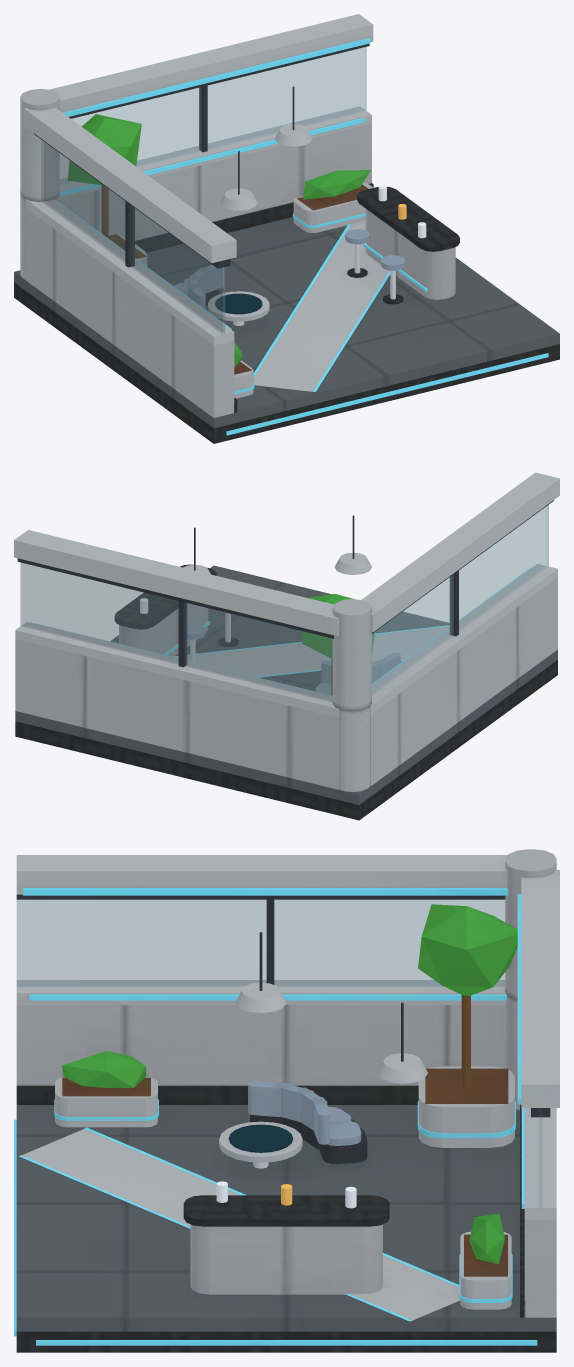
Rendered from enterprise_promenade.glb.
3 renders of one model, top to bottom at view 1: azimuth 30°, elevation 25°; view 2: azimuth 150°, elevation 25°; view 3: azimuth 270°, elevation 25°, orthographic. The views are drawn at different scales.
Parts seen in each view (by area): view 1: te_enterprise_promenade; view 2: te_enterprise_promenade; view 3: te_enterprise_promenade.
Boxes of the visible parts, x1,y1,x2,y2 form: te_enterprise_promenade: [14, 14, 559, 443]; te_enterprise_promenade: [14, 472, 559, 820]; te_enterprise_promenade: [14, 849, 559, 1352].
Size of the model in its own units: 0.8621 by 0.472 by 0.849.
2 materials, 1 textured.
